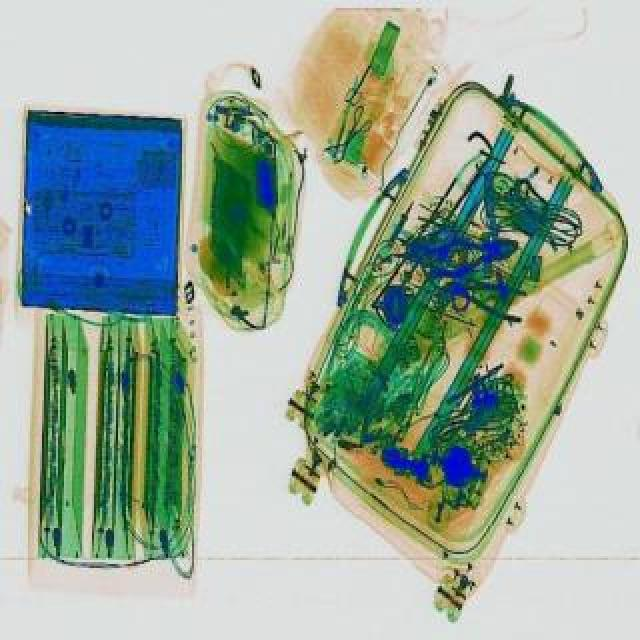wrench: (386, 220, 478, 296), (428, 230, 524, 284), (442, 276, 532, 328)
